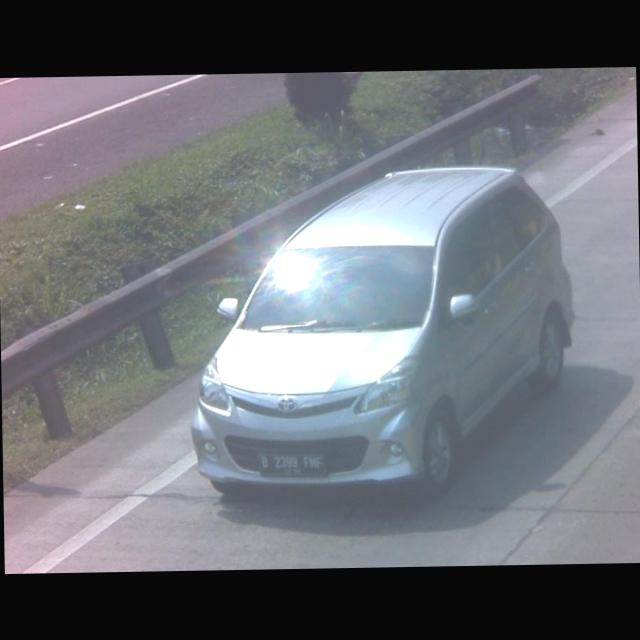plate: (258, 451, 325, 478)
